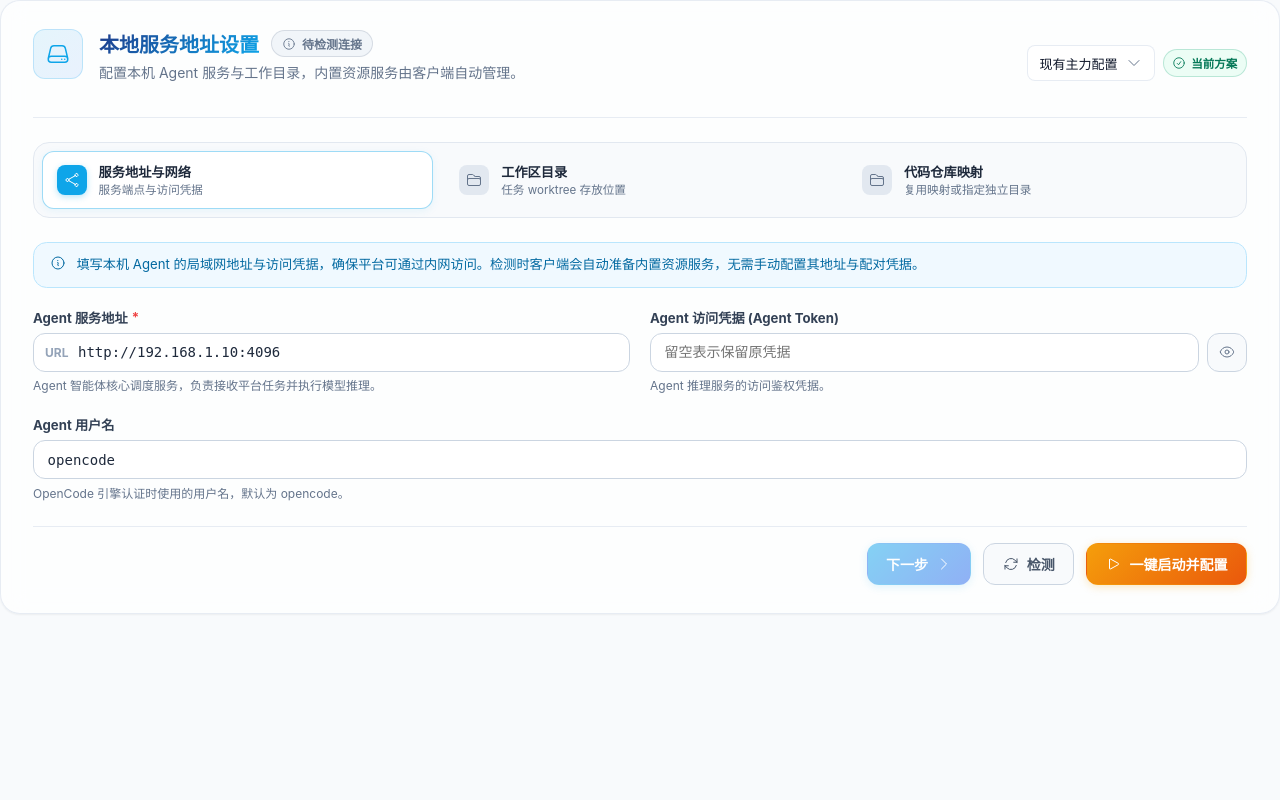
Test: LocalServiceForm Component (Scheme 2: Stepper Flow with BaseSelect) › loads existing configuration when BaseSelect selects an item
Check: the field with id "service-url" holds "http://192.168.1.10:4096", box [33,333,630,372]
Step 1. Click the button "检测" → {"x": 1029, "y": 564}, box [983,543,1074,585]
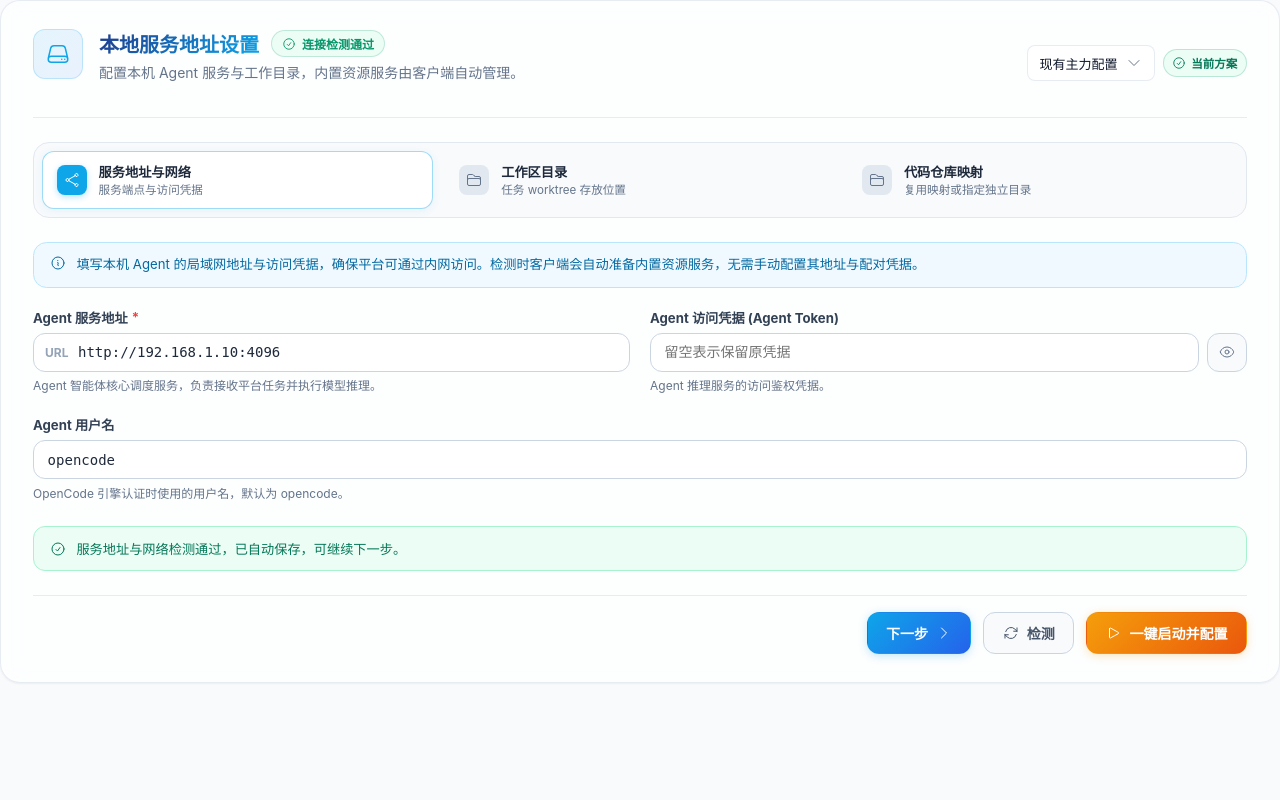
Check: the message with class "status-badge" reads "连接检测通过", box [302,37,374,52]
Step 2. Type "http://10.0.0.99:4096" into the field with id "service-url" → {"x": 332, "y": 352}, box [33,333,630,372]
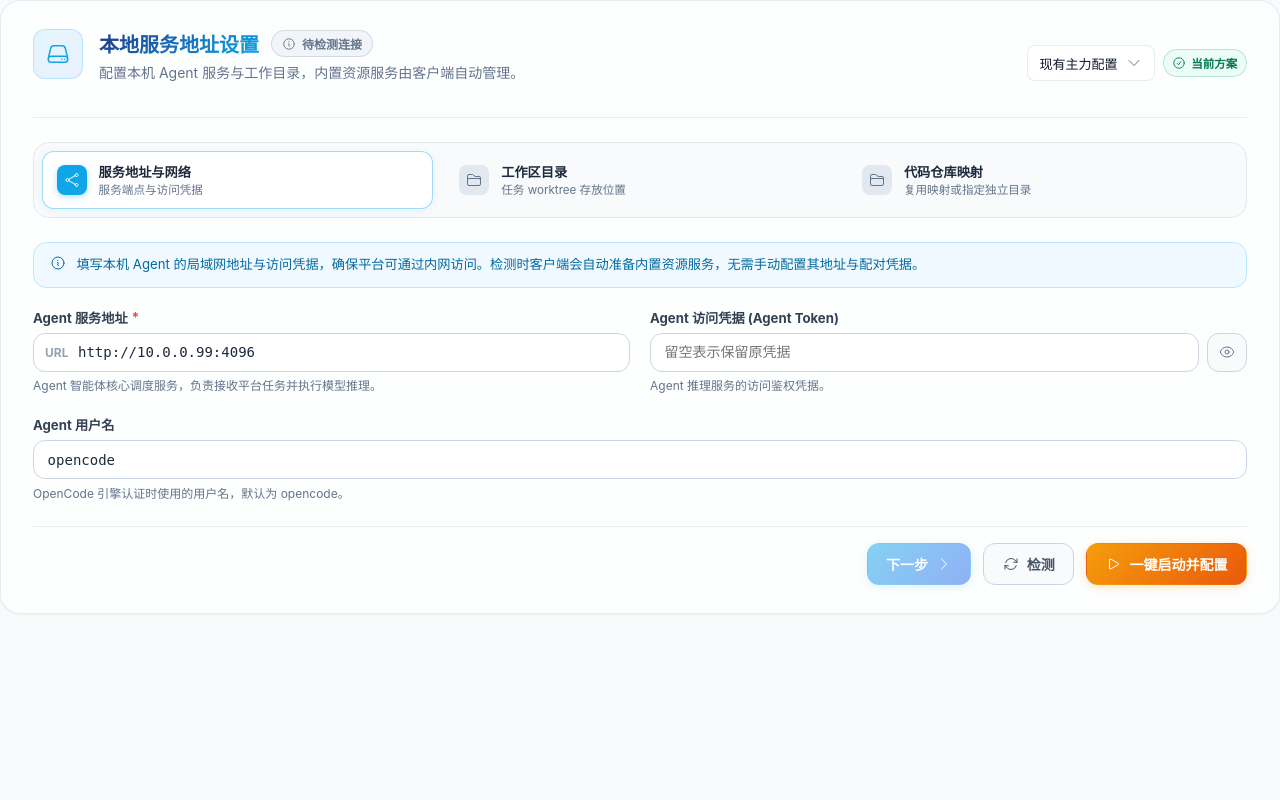
Check: the element with class "status-badge" reads "待检测连接", box [302,37,362,52]
